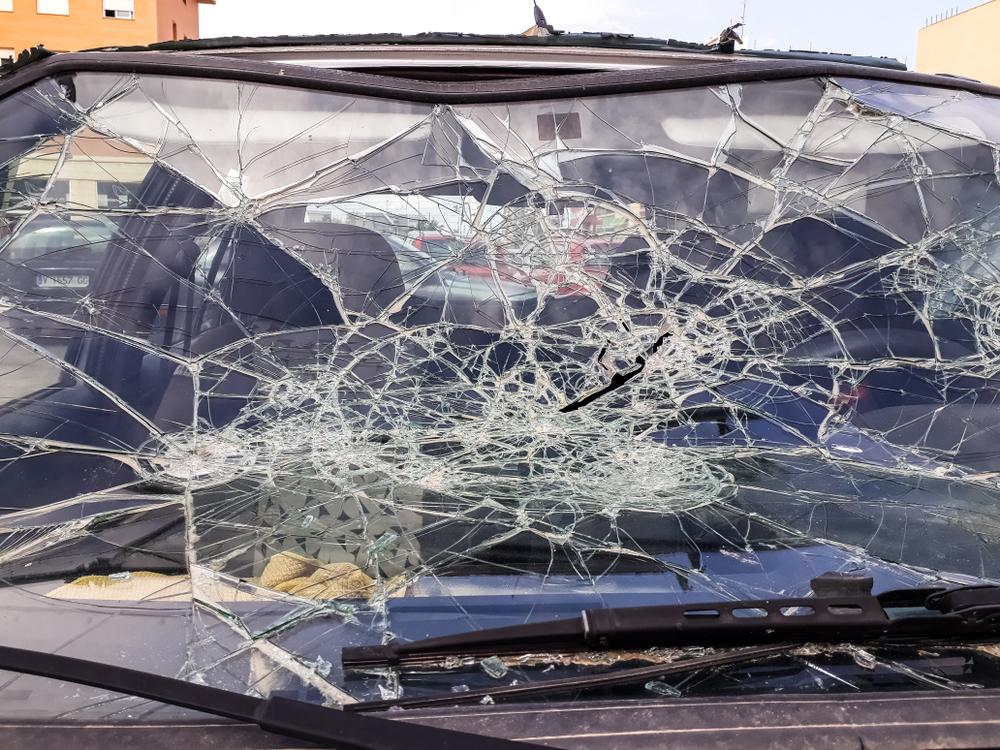glass shatter: (0, 72, 1000, 719)
